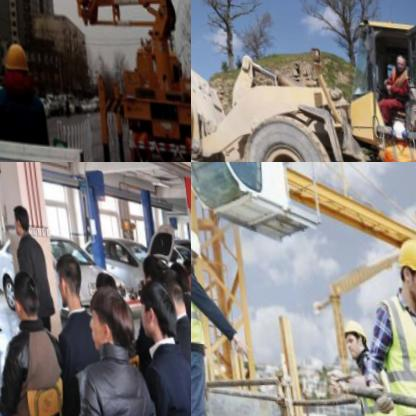head: (79, 280, 132, 356), (129, 273, 176, 340), (46, 242, 84, 309), (3, 262, 37, 317), (152, 252, 179, 305), (133, 243, 159, 283), (90, 264, 115, 303), (6, 197, 29, 233), (165, 249, 186, 288), (177, 246, 191, 284)
helmet: (387, 226, 416, 300), (333, 307, 366, 354), (0, 36, 26, 95), (385, 112, 406, 141), (191, 219, 199, 265)
